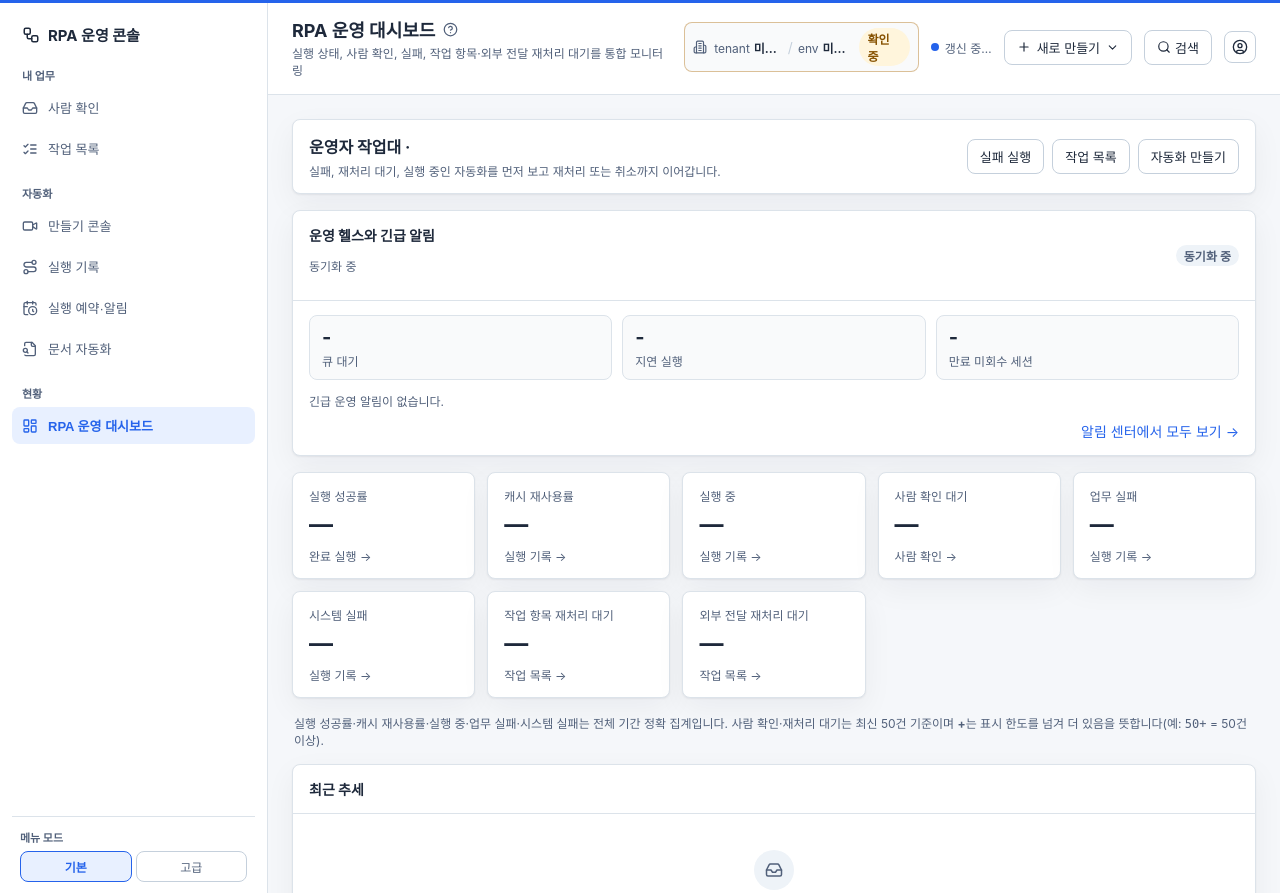
Scenario: 화면별 맥락 도움말 '?' 버튼 › '?' 클릭 시 도움말 본문을 화면에 펼치고 다시 누르면 닫는다(터치/SR 접근)
Click the button named "RPA 운영 대시보드 화면 도움말" at (451, 29), box top-left (441, 20), bottom-right (460, 38)
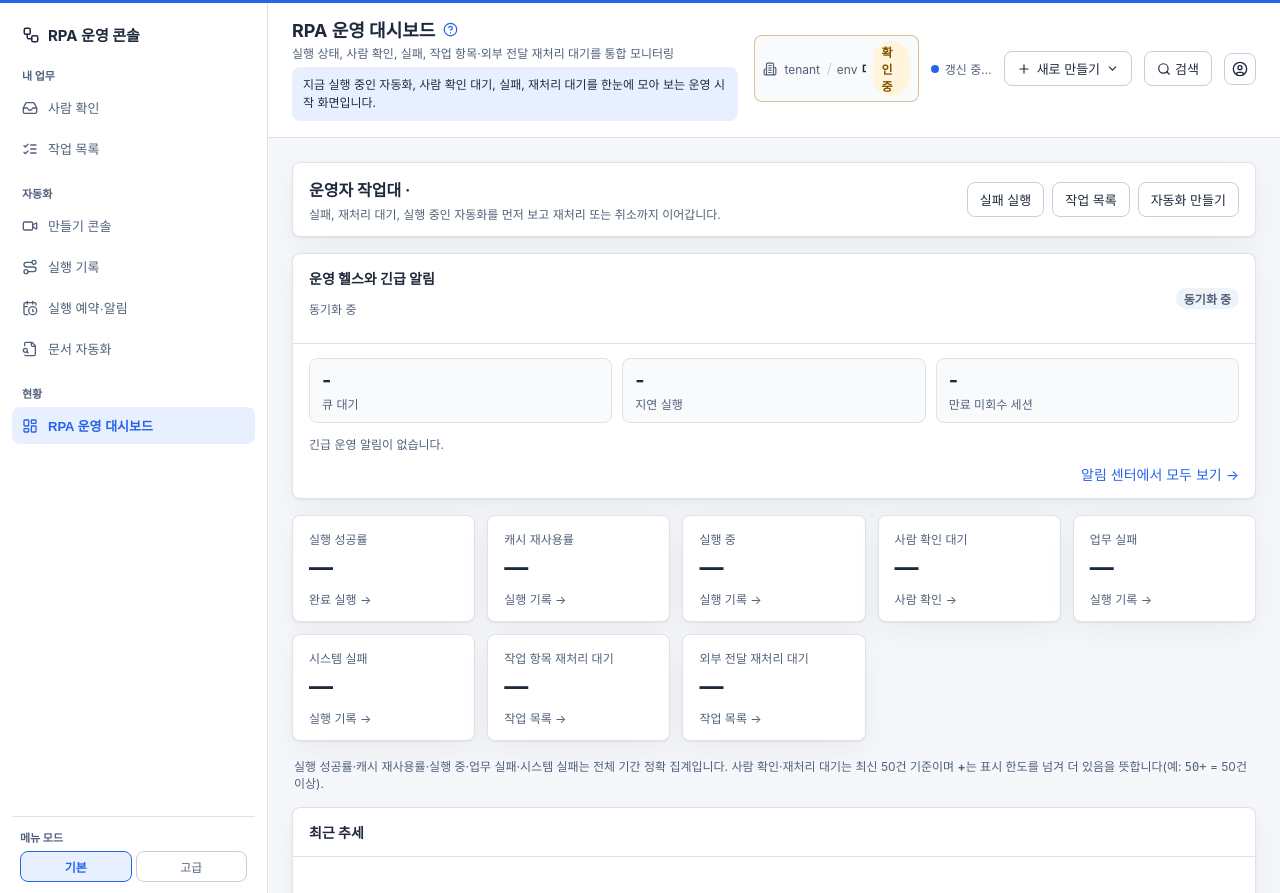
Expected: the button named "RPA 운영 대시보드 화면 도움말" is expanded
Expected: the text named "RPA 운영 대시보드 화면 도움말" reads "지금 실행 중인 자동화, 사람 확인 대기, 실패, 재처리 대기를 한눈에 모아 보는 운영 시작 화면입니다.", top-left (303, 77), bottom-right (725, 110)
Click the button named "RPA 운영 대시보드 화면 도움말" at (451, 29), box top-left (441, 20), bottom-right (460, 38)
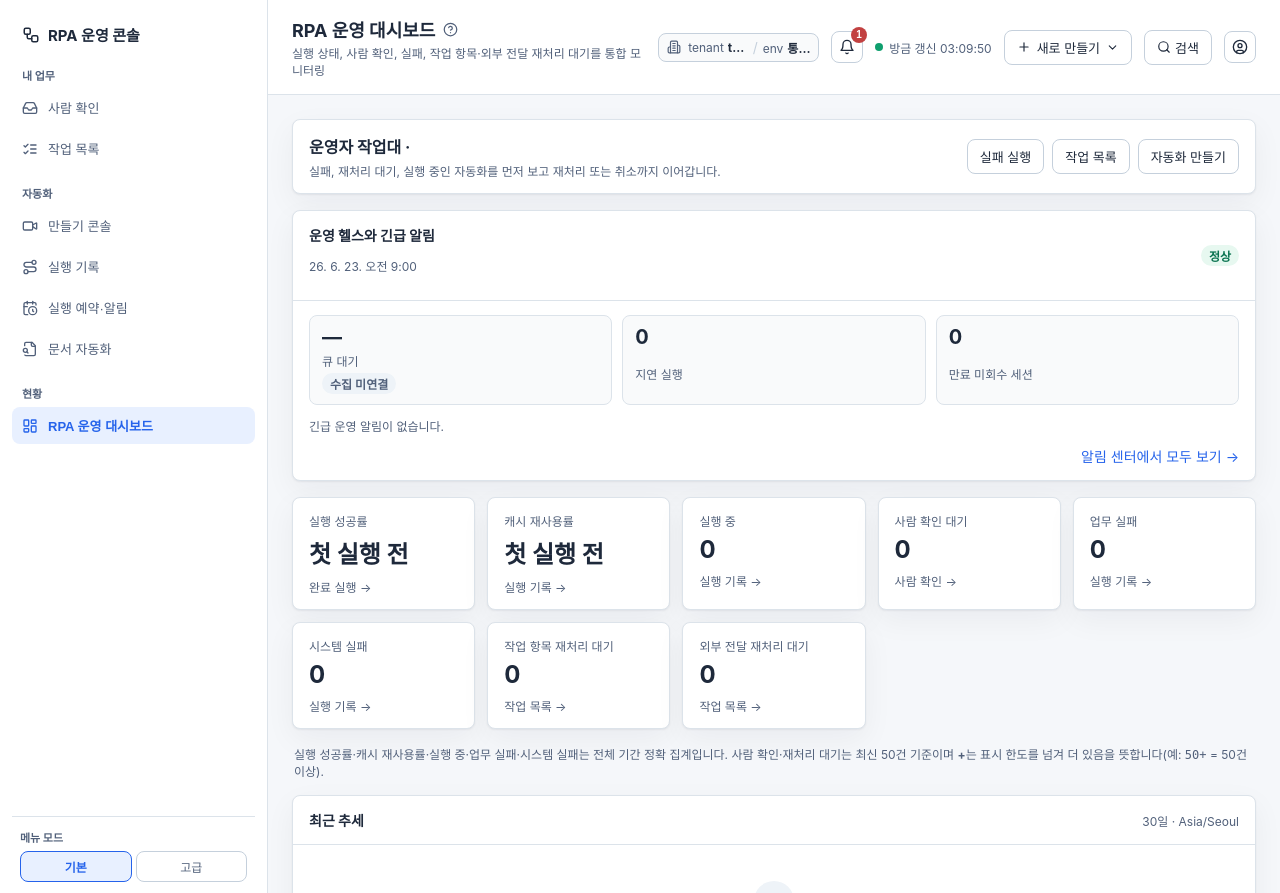
Expected: the button named "RPA 운영 대시보드 화면 도움말" is collapsed, top-left (441, 20), bottom-right (460, 38)
